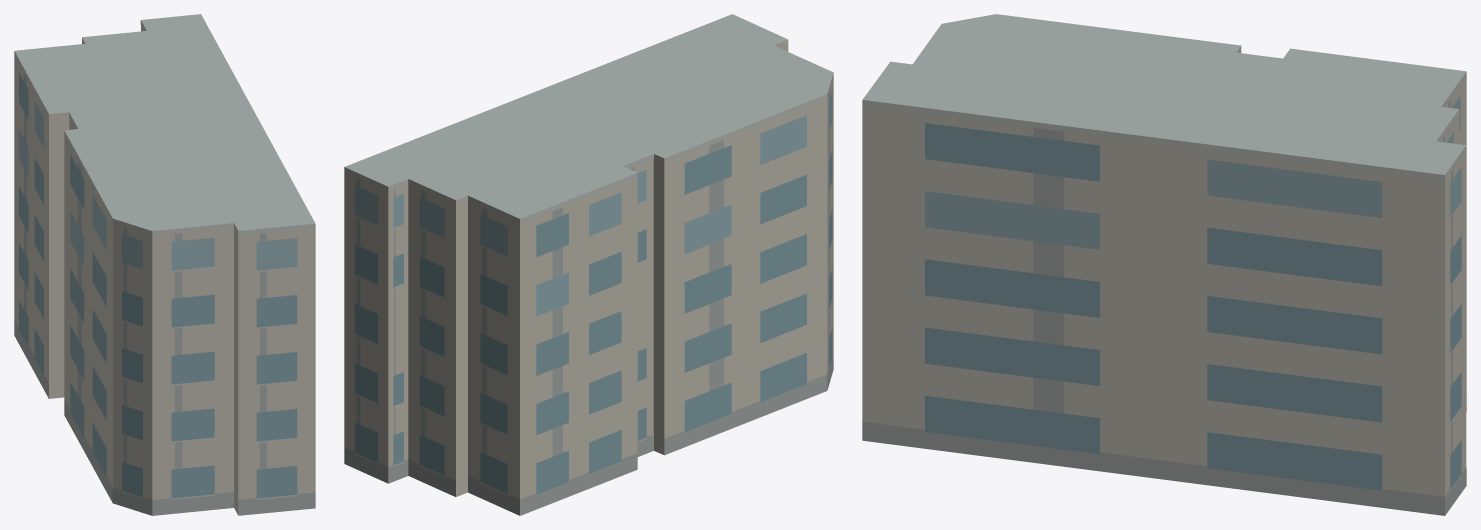
Rendered from survey-upis-32908771.glb.
The picture shows the model from 3 angles, left to right: view 1: azimuth 30°, elevation 25°; view 2: azimuth 150°, elevation 25°; view 3: azimuth 270°, elevation 25°; orthographic projection. The views are drawn at different scales.
Parts seen in each view (by area): view 1: survey-upis-32908771.tmp; view 2: survey-upis-32908771.tmp; view 3: survey-upis-32908771.tmp.
Boxes of the visible parts, <box> form: survey-upis-32908771.tmp: <box>14,14,315,515</box>; survey-upis-32908771.tmp: <box>344,14,833,515</box>; survey-upis-32908771.tmp: <box>862,14,1466,515</box>.
Size of the model in its own units: 14.3 by 14.1 by 22.66.
